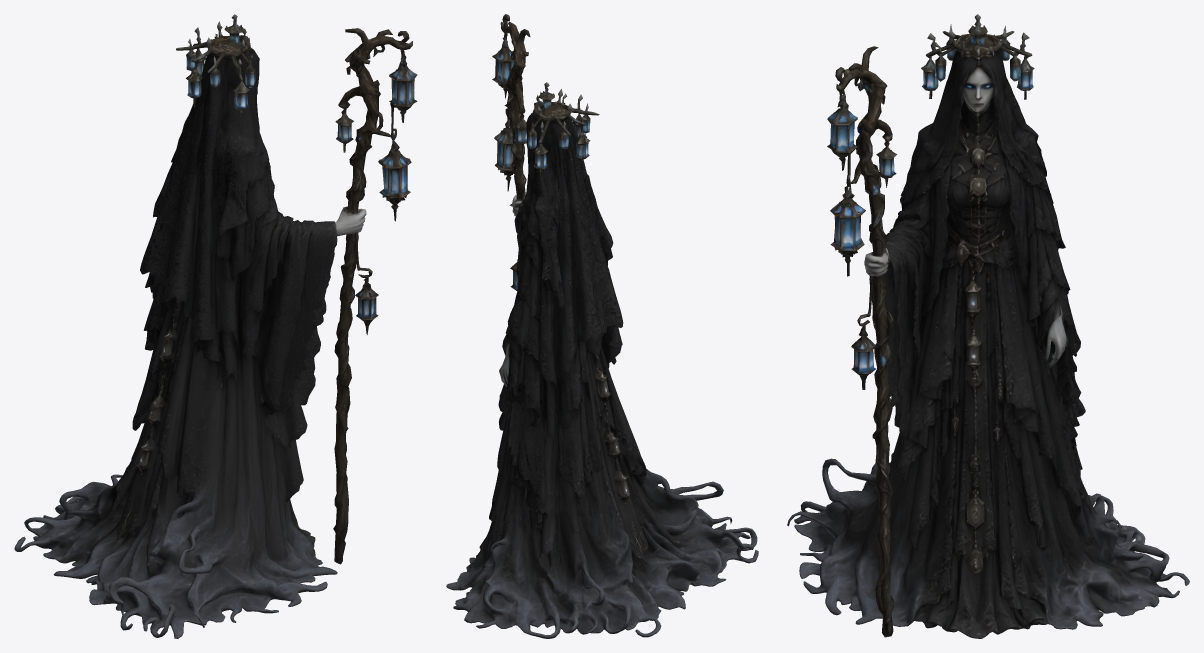
Rendered from LanternWidow-tripo.glb.
3 views of the same model, side by side, from view 1: azimuth 30°, elevation 25°; view 2: azimuth 150°, elevation 25°; view 3: azimuth 270°, elevation 25° (orthographic). The views are drawn at different scales.
Parts seen in each view (by area): view 1: tripo_node_13700e71-8d4e-40de-bbd0-aa382e6f1ed1; view 2: tripo_node_13700e71-8d4e-40de-bbd0-aa382e6f1ed1; view 3: tripo_node_13700e71-8d4e-40de-bbd0-aa382e6f1ed1.
Part boxes in pixels (box(x1,y1,x2,y2)): tripo_node_13700e71-8d4e-40de-bbd0-aa382e6f1ed1: box(14, 14, 417, 638); tripo_node_13700e71-8d4e-40de-bbd0-aa382e6f1ed1: box(446, 14, 758, 638); tripo_node_13700e71-8d4e-40de-bbd0-aa382e6f1ed1: box(787, 14, 1189, 638).
Size of the model in its own units: 0.5631 by 1 by 0.6154.
Materials: 1 (1 with a texture image).
